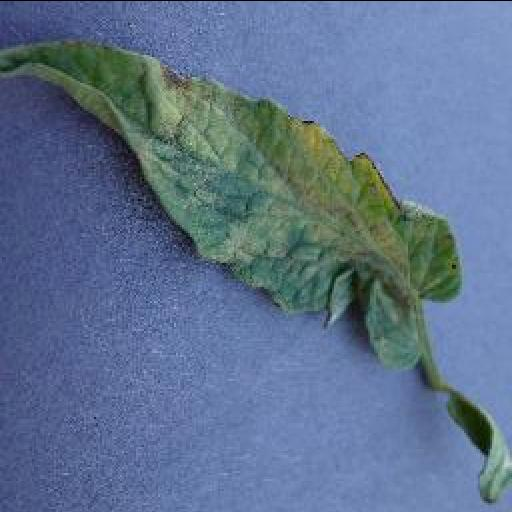disease_tomato: (0, 37, 462, 365)
